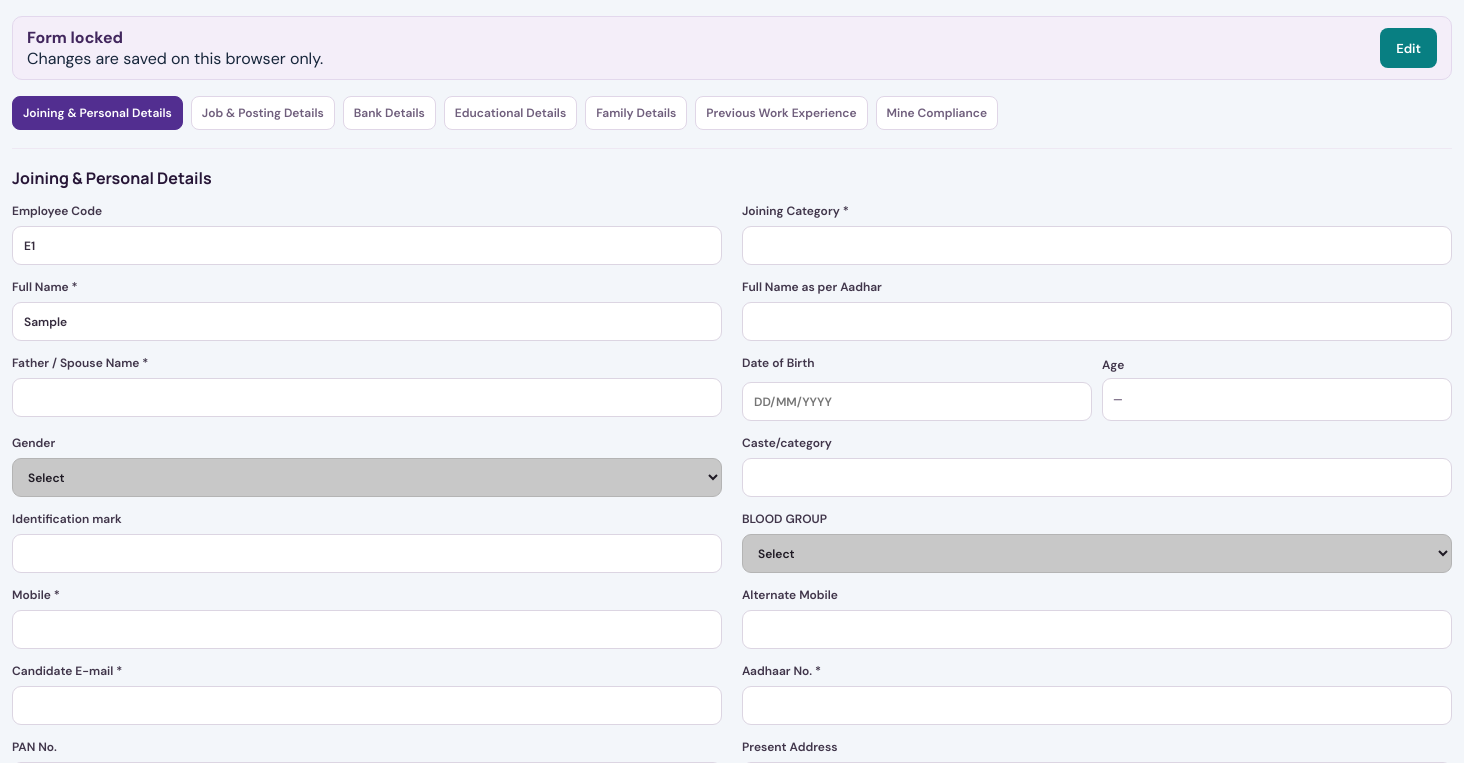
Test case: recalculates while editing an existing experience entry
Click the button "Edit" at [1409, 48], box x1=1380 y1=28 x2=1437 y2=68
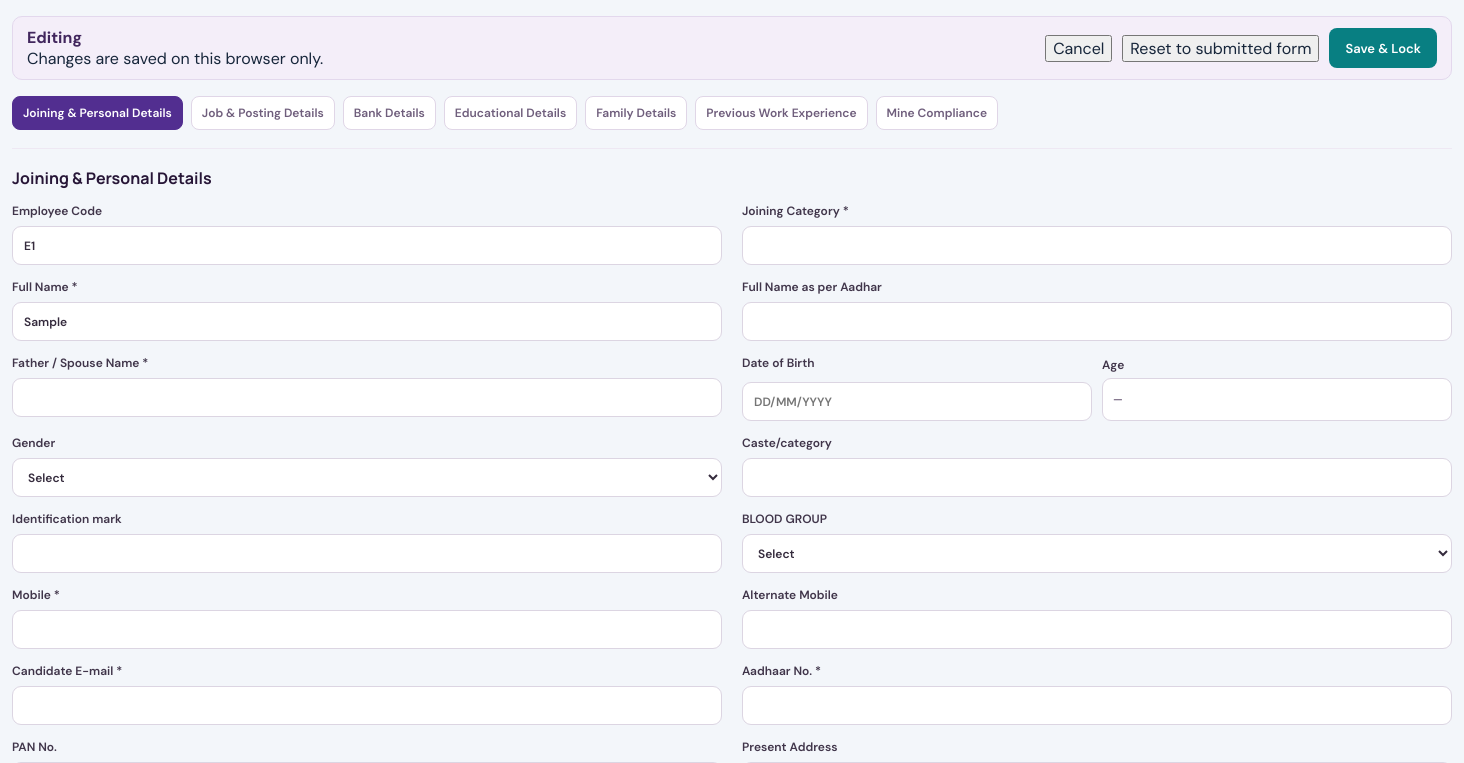
Click the button "Previous Work Experience" at [781, 113], box x1=695 y1=96 x2=868 y2=130
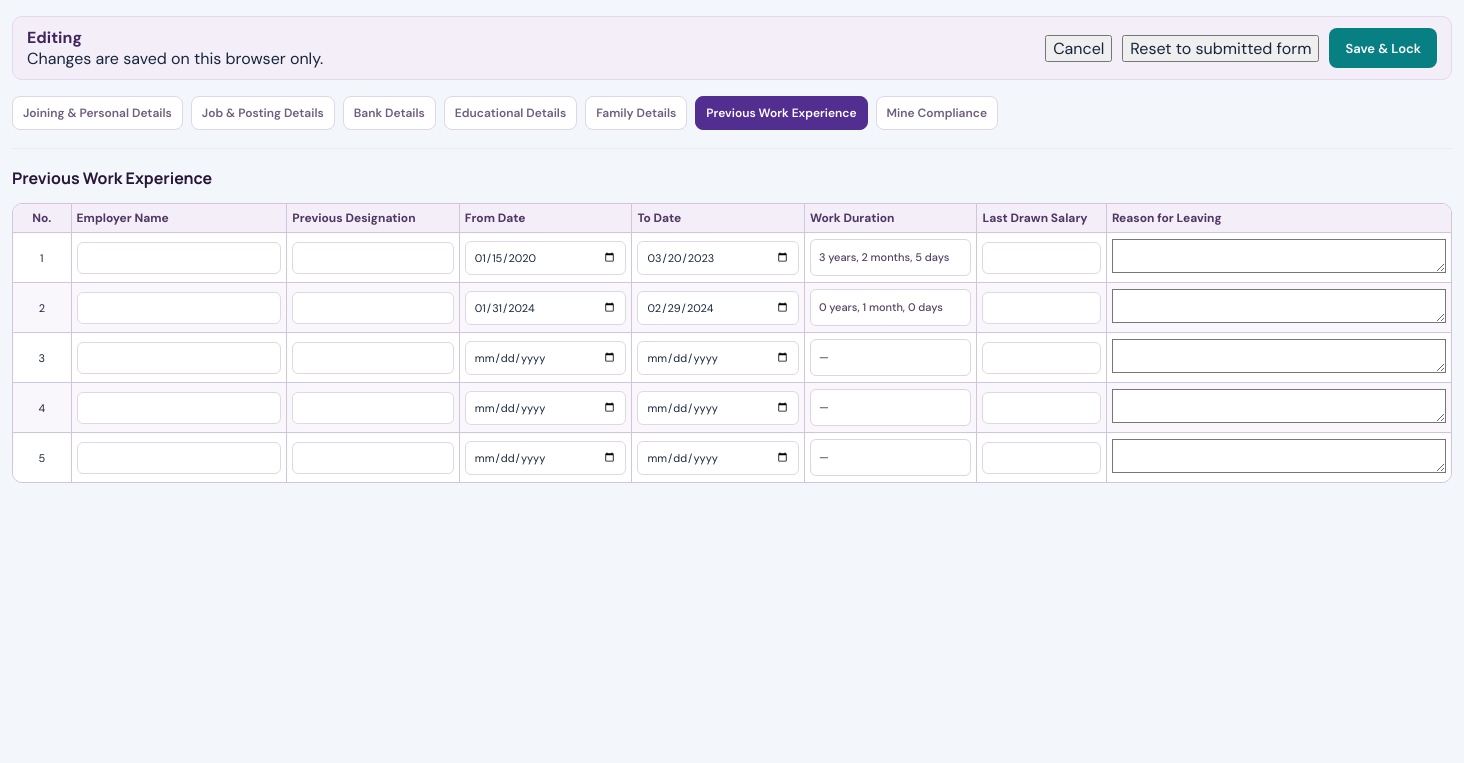
Type "2021-01-15" into the date field named "To Date 1" at [718, 258], box x1=637 y1=240 x2=799 y2=274
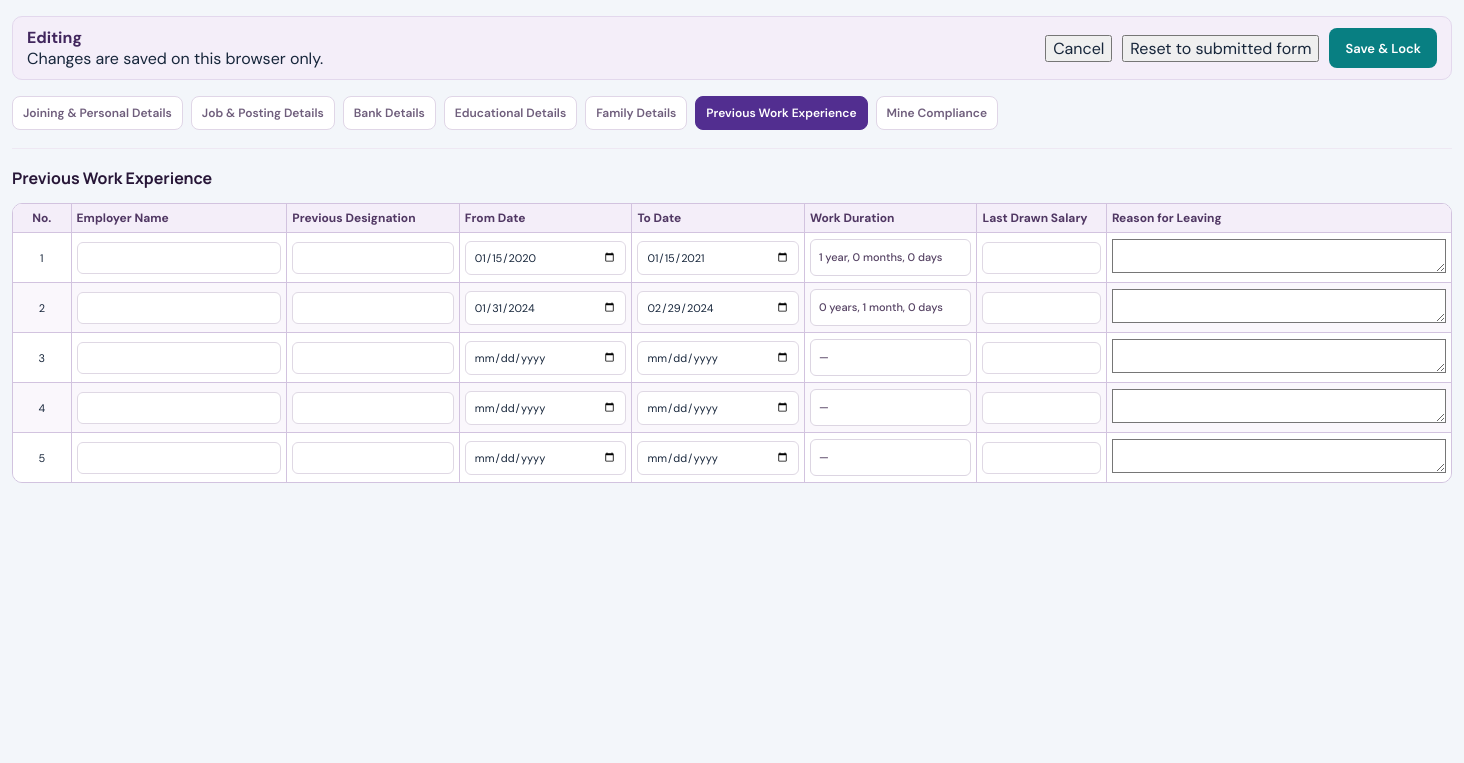
Check: the text named "Work Duration 1" reads "1 year, 0 months, 0 days", box x1=819 y1=250 x2=942 y2=264
